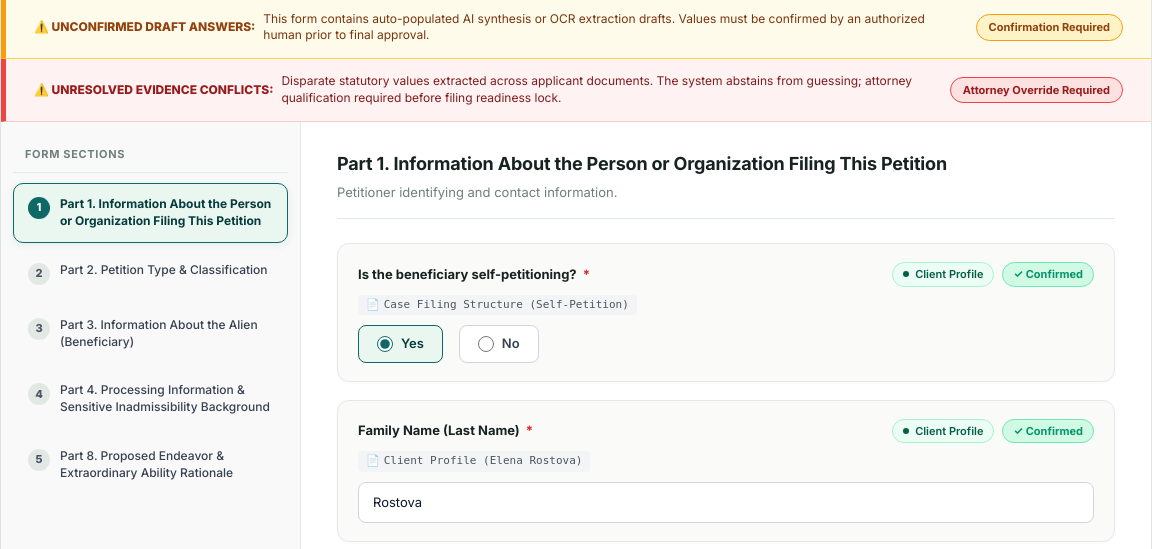
Test: Phase 8 — Application Forms, Readiness Checks, and Package Builder › ConfigurableFormViewer Component › detects multi-document evidence conflicts and allows adopting candidate values
Check: the element with test id "form-conflicts-banner" is shown, box [1, 59, 1151, 122]
Check: the text "⚠️ UNRESOLVED EVIDENCE CONFLICTS:" is shown, box [34, 81, 273, 99]
Note: Navigate to Part 3 where passport field lives
Click the text "Part 3. Information About the Alien (Beneficiary)": (166, 334) [60, 317, 273, 350]
(page scrolled)
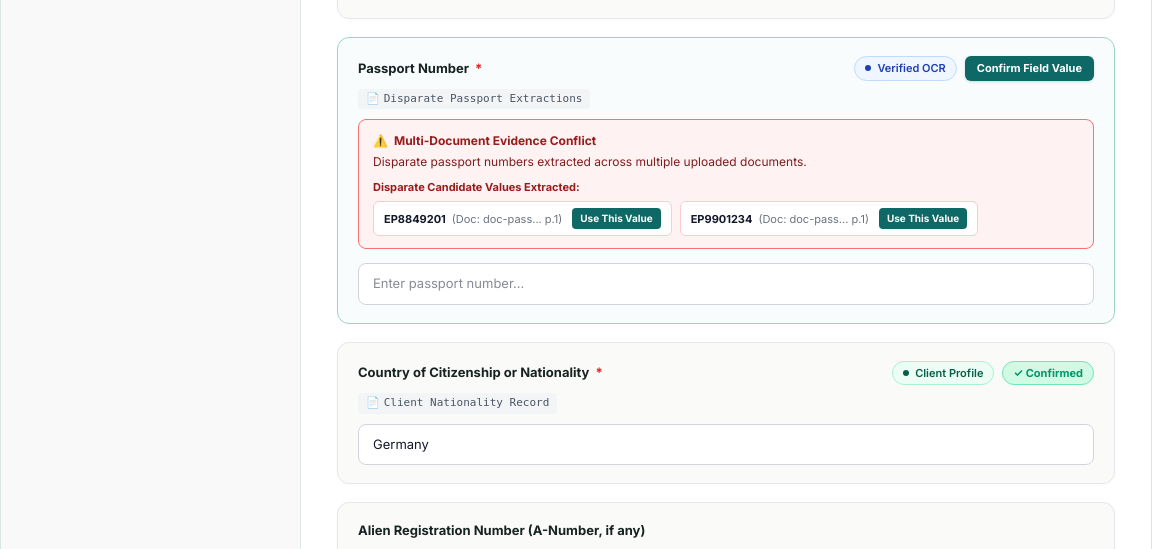
Check: the element with test id "conflict-alert-beneficiary_passport_number" is shown, box [358, 119, 1094, 250]
Check: the text "EP8849201" is shown, box [384, 212, 446, 226]
Check: the text "EP9901234" is shown, box [691, 212, 752, 226]
Note: Click "Use This Value" for the newer passport
Click the button "Use This Value" in the row of "EP9901234": (923, 219) [879, 208, 967, 230]
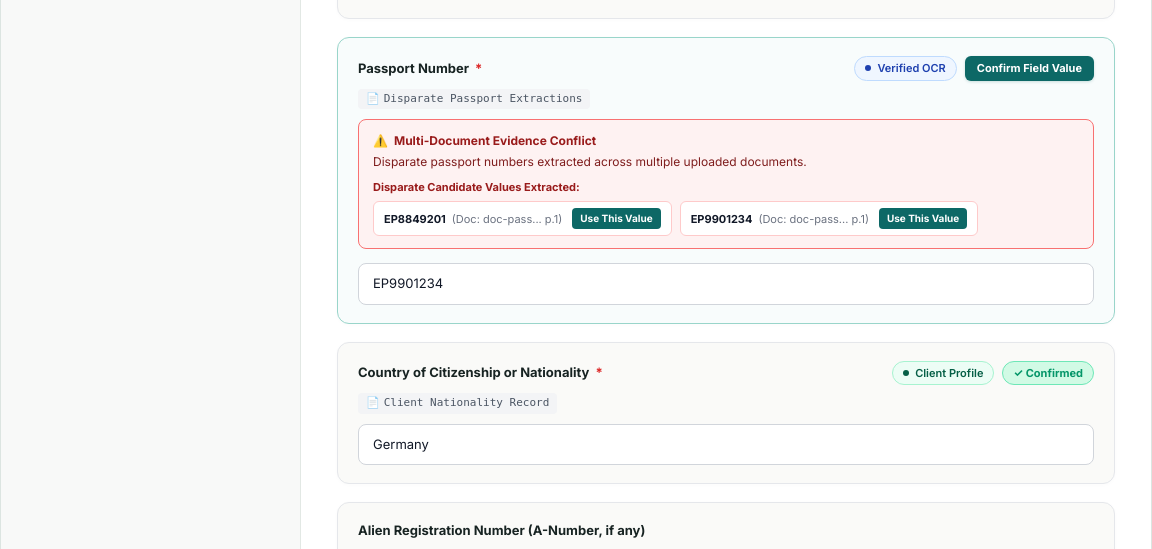
Check: the field with placeholder "Enter passport number..." below "EP8849201" holds "EP9901234", box [358, 264, 1094, 305]
